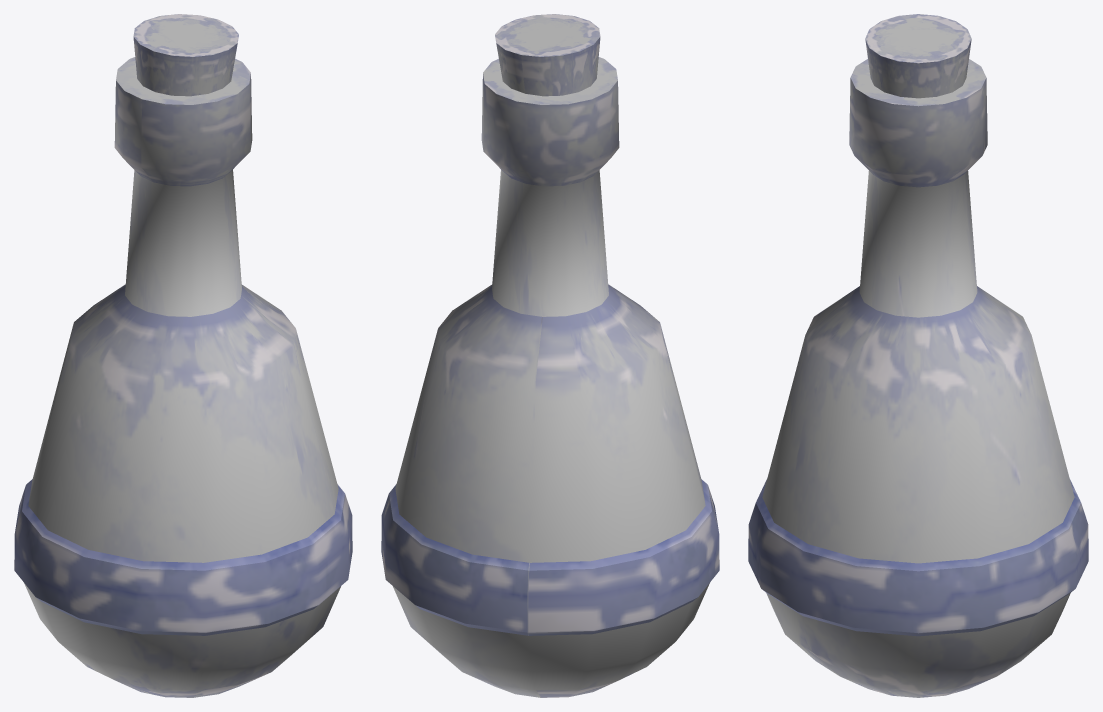
File: Potion_2.fbx
The picture shows the model from 3 angles, left to right: view 1: azimuth 30°, elevation 25°; view 2: azimuth 150°, elevation 25°; view 3: azimuth 270°, elevation 25°; orthographic projection.
Visible parts, largest first — view 1: Potion_2; view 2: Potion_2; view 3: Potion_2.
Boxes of the visible parts, x1,y1,x2,y2 form: Potion_2: [14, 14, 352, 697]; Potion_2: [381, 14, 719, 697]; Potion_2: [748, 14, 1088, 697].
Size of the model in its own units: 12.74 by 26.15 by 12.74.
